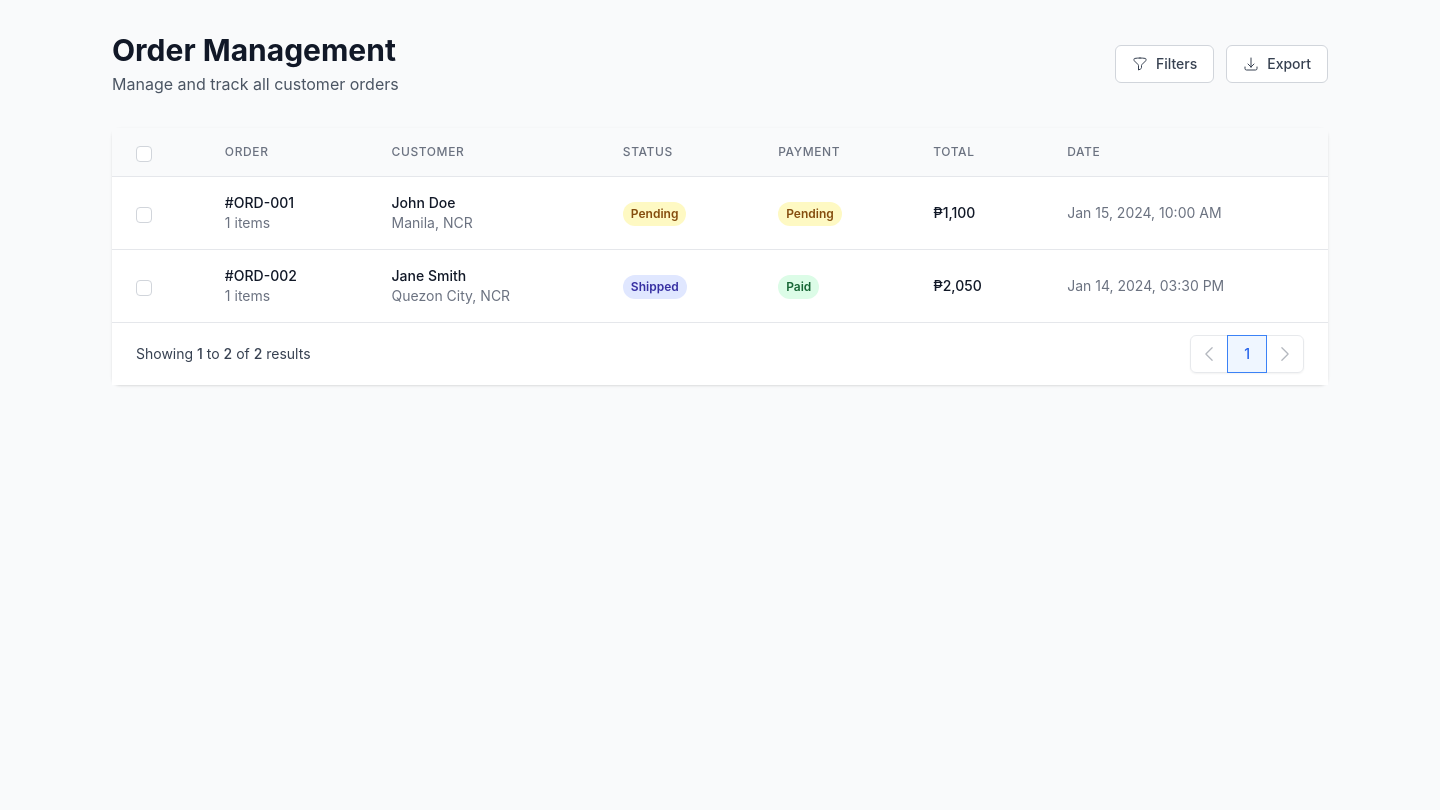
Test: OrderManagementPage › allows order selection for bulk operations
This screenshot has width=1440, height=810.
Check: the text "#ORD-001" is shown, box [225,194,294,211]
Click the checkbox in the row of "ORD-001".
click(144, 215)  # box [136,207,152,223]
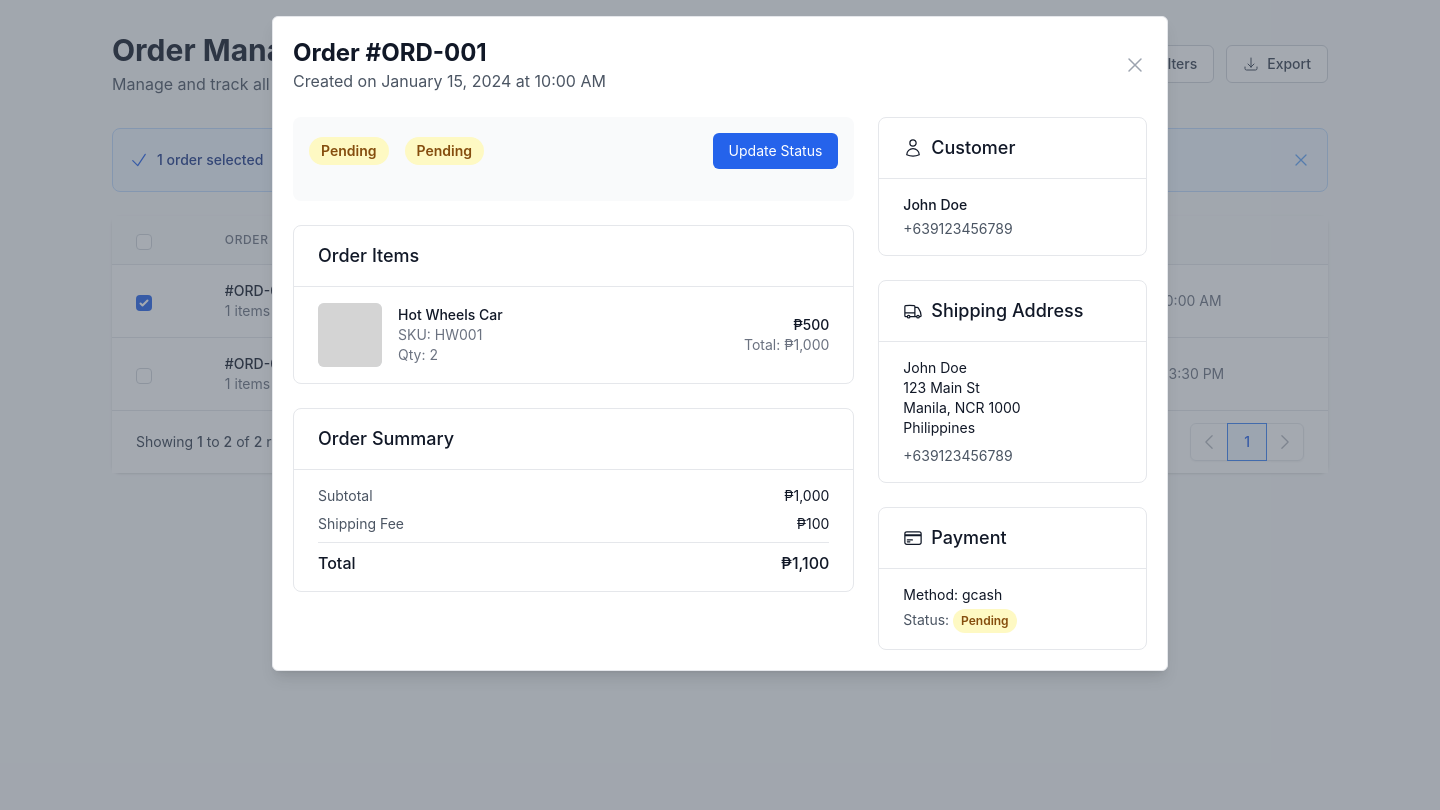
Check: the text "1 order selected" is shown, box [157,150,263,170]
